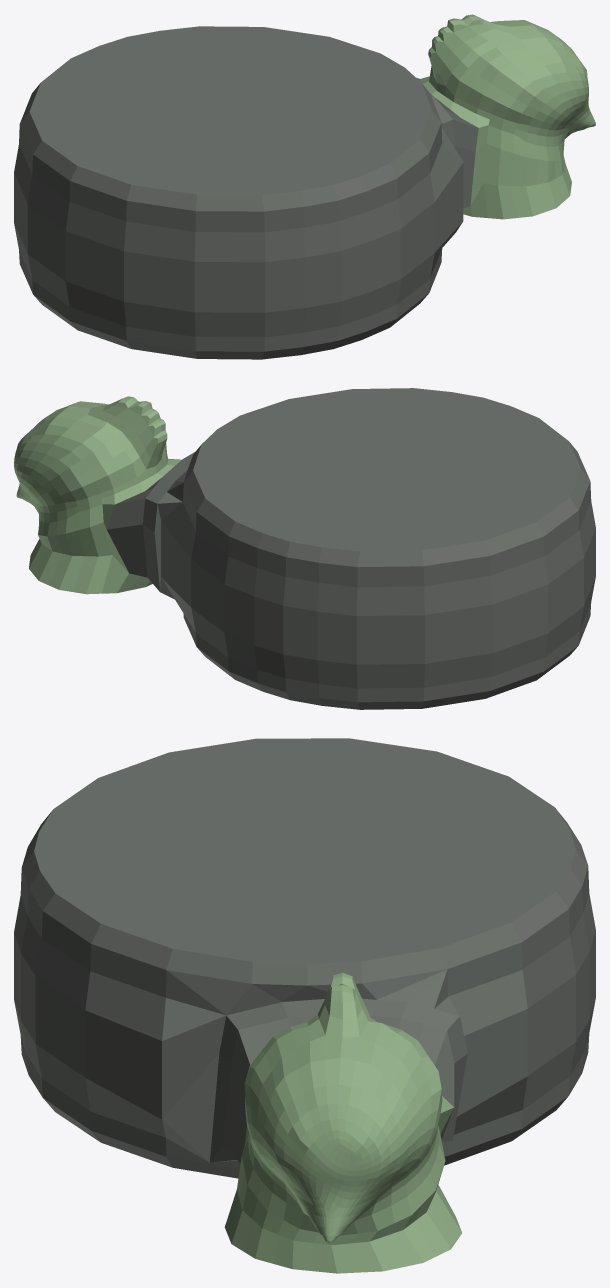
File: quetzal_head.fbx
3 renders of one model, top to bottom at view 1: azimuth 30°, elevation 25°; view 2: azimuth 150°, elevation 25°; view 3: azimuth 270°, elevation 25°, orthographic. The views are drawn at different scales.
Visible parts, largest first — view 1: Cylinder.001; view 2: Cylinder.001; view 3: Cylinder.001.
Boxes of the visible parts, x1=… form: Cylinder.001: x1=14, y1=14, x2=595, y2=359; Cylinder.001: x1=14, y1=388, x2=595, y2=709; Cylinder.001: x1=14, y1=738, x2=595, y2=1273.
Size of the model in its own units: 1105 by 352 by 747.
